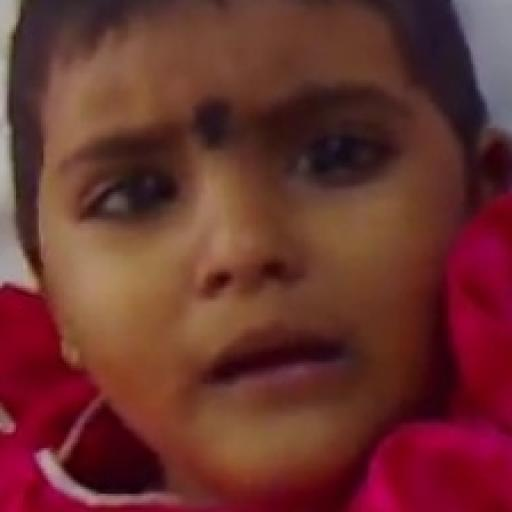Autism: (18, 0, 493, 512)
